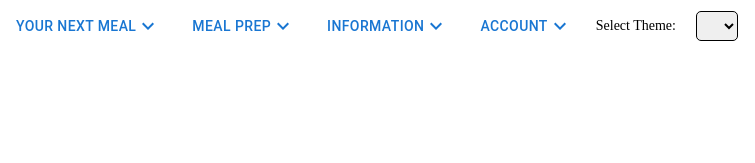
Test: shows Meal Prep links in Navbar
Click the button "Meal Prep": (244, 26) [184,8,303,44]
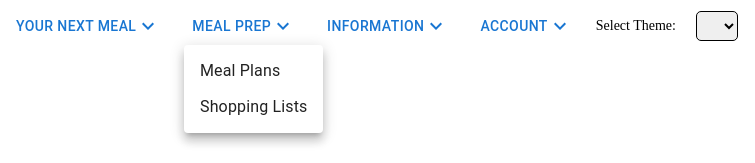
Expected: the menu item "Shopping Lists" is shown, [200,97,308,116]
Expected: the menu item "Meal Plans" is shown, [200,61,280,80]
